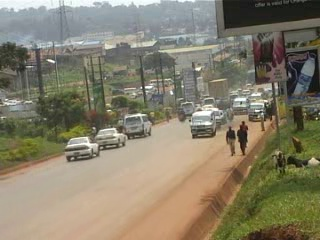Car: (63, 133, 101, 162), (93, 126, 129, 149)
Motorcycle: (175, 104, 187, 122), (223, 105, 234, 122)
